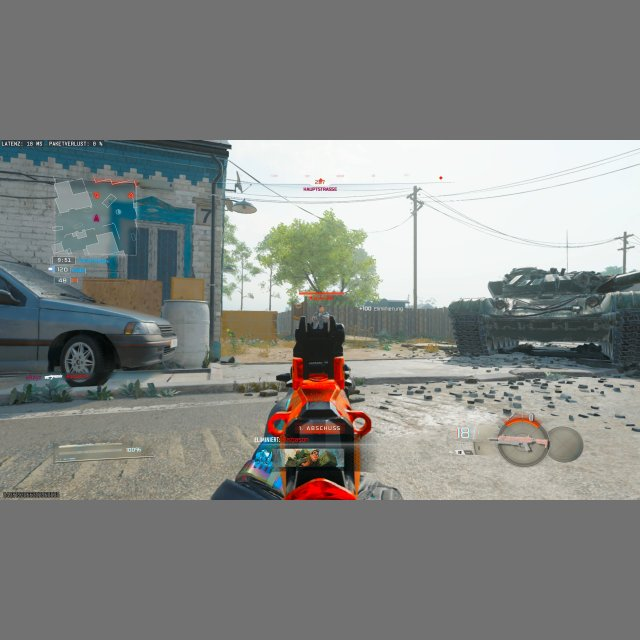head: (317, 306, 325, 314)
player: (312, 305, 331, 328)
